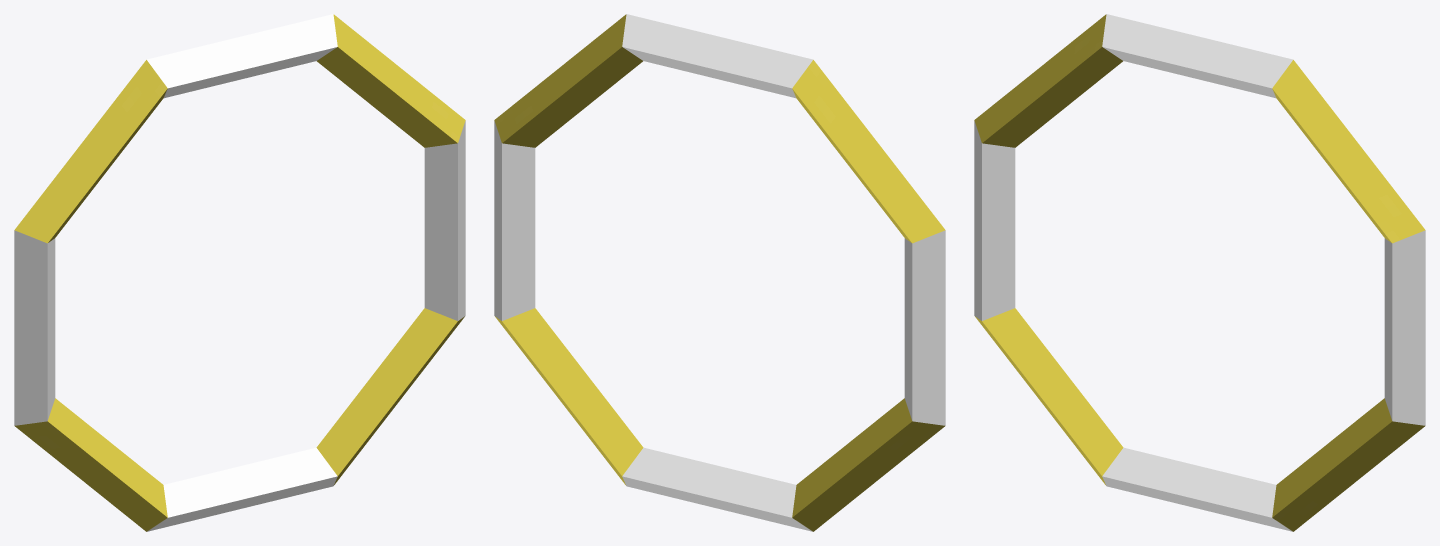
Rendered from wisp_core_ring_2.obj.
The picture shows the model from 3 angles, left to right: view 1: azimuth 30°, elevation 25°; view 2: azimuth 150°, elevation 25°; view 3: azimuth 330°, elevation 25°; orthographic projection.
Parts seen in each view (by area): view 1: Torus.002; view 2: Torus.002; view 3: Torus.002.
Part boxes in pixels (x1=…): Torus.002: x1=14, y1=14, x2=465, y2=531; Torus.002: x1=494, y1=14, x2=945, y2=531; Torus.002: x1=974, y1=14, x2=1425, y2=531.
Bounding box in the file's own units: 2.03 × 2.03 × 0.2.
